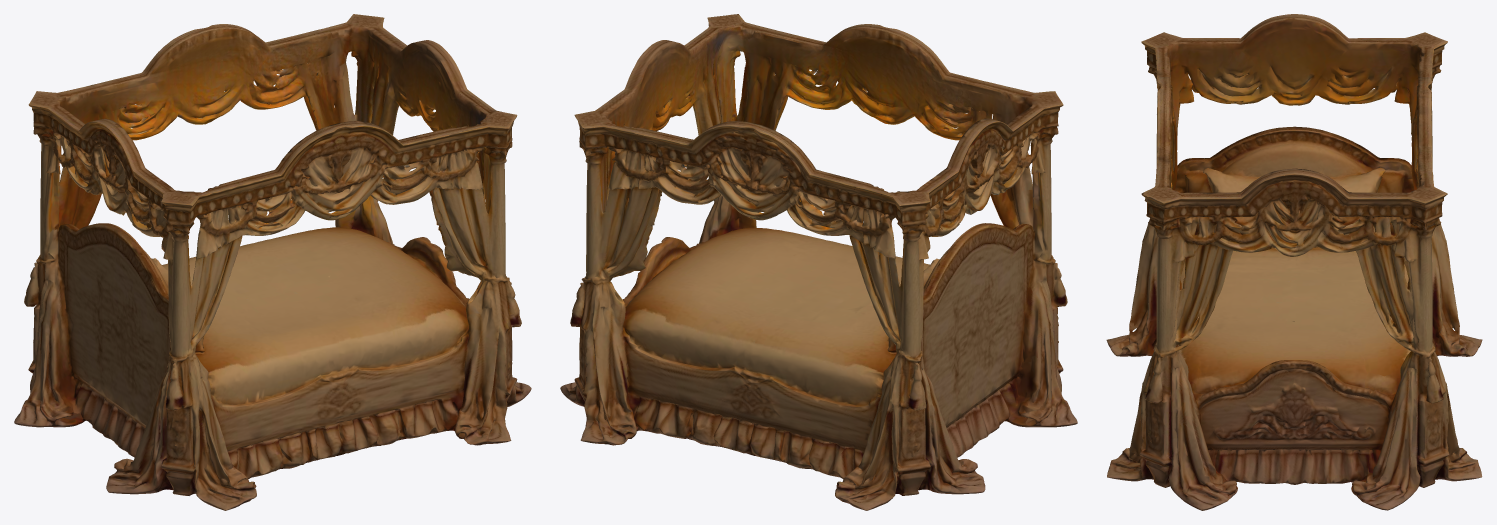
File: cama.fbx
3 renders of one model, left to right at view 1: azimuth 30°, elevation 25°; view 2: azimuth 150°, elevation 25°; view 3: azimuth 270°, elevation 25°, orthographic.
Parts seen in each view (by area): view 1: tripo_node_847fad40; view 2: tripo_node_847fad40; view 3: tripo_node_847fad40.
Part boxes in pixels (left/top/right/bottom): tripo_node_847fad40: left=14, top=14, right=531, bottom=510; tripo_node_847fad40: left=560, top=14, right=1077, bottom=510; tripo_node_847fad40: left=1106, top=14, right=1482, bottom=510.
Bounding box in the file's own units: 1 × 0.7443 × 0.7822.
Materials: 1 (1 with a texture image).
